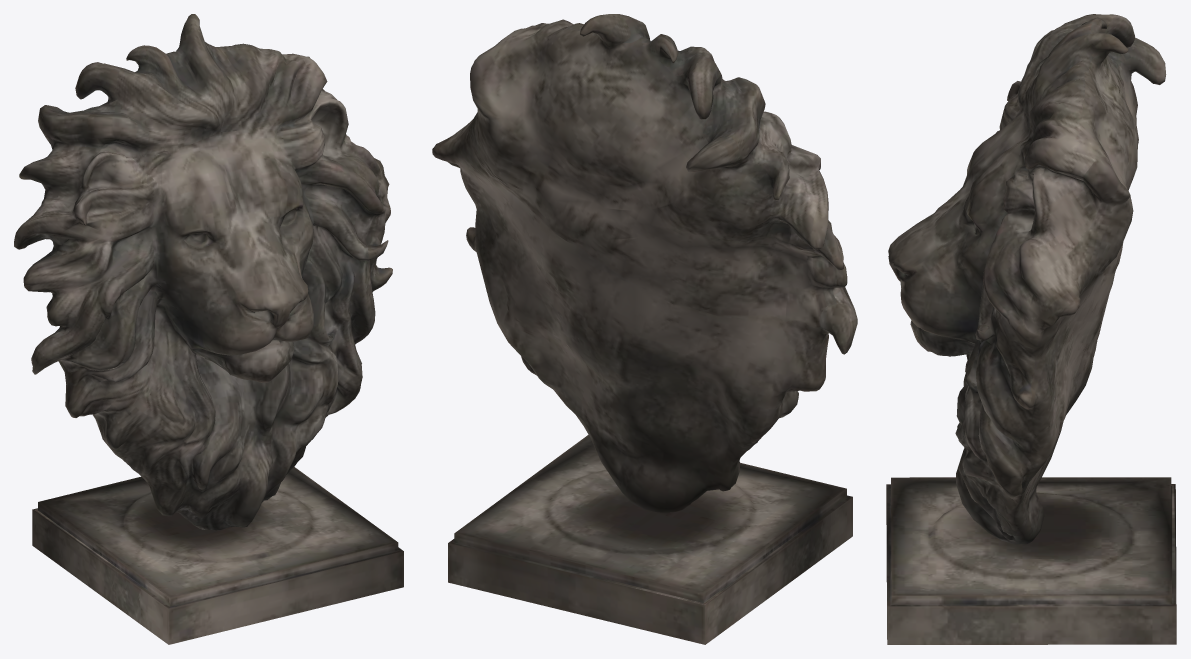
The model's file is lion_head.glb.
3 views of the same model, side by side, from view 1: azimuth 30°, elevation 25°; view 2: azimuth 150°, elevation 25°; view 3: azimuth 270°, elevation 25° (orthographic). The views are drawn at different scales.
Visible parts, largest first — view 1: lion_head; view 2: lion_head; view 3: lion_head.
Part boxes in pixels (left/top/right/bottom): lion_head: left=14, top=14, right=403, bottom=644; lion_head: left=432, top=14, right=857, bottom=644; lion_head: left=886, top=14, right=1176, bottom=644.
Bounding box in the file's own units: 0.3207 × 0.4359 × 0.2066.
1 material, 1 textured.
